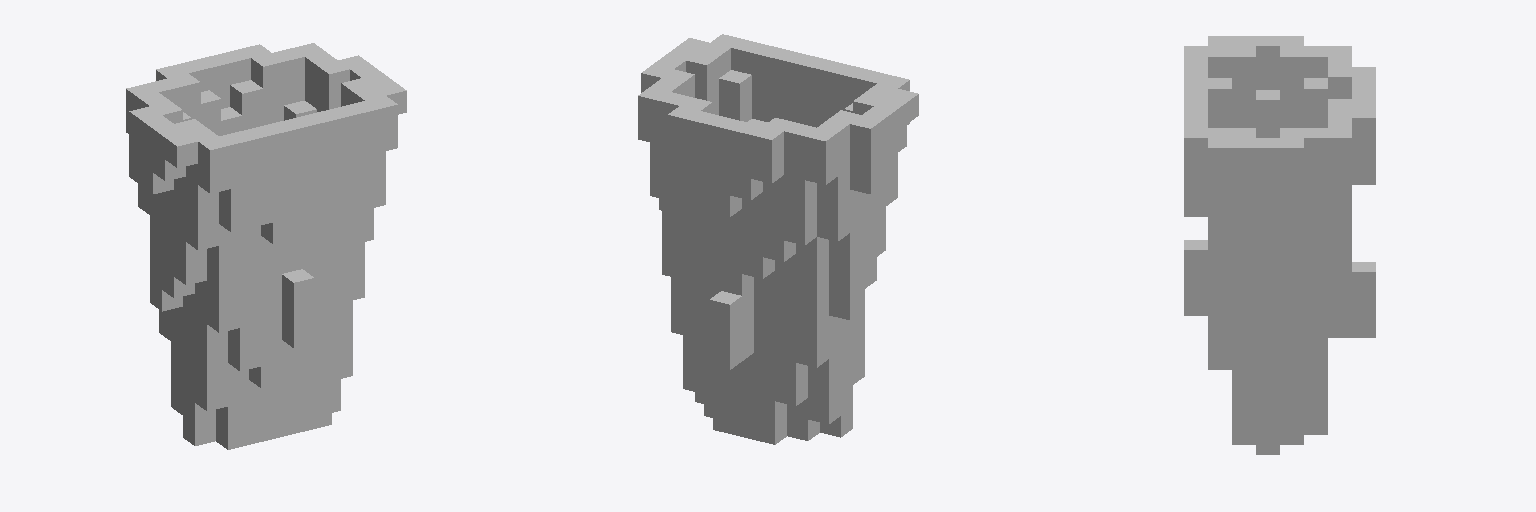
Rendered from kelpietail3.obj.
3 renders of one model, left to right at view 1: azimuth 30°, elevation 25°; view 2: azimuth 150°, elevation 25°; view 3: azimuth 270°, elevation 25°, orthographic.
Parts seen in each view (by area): view 1: kelpietail; view 2: kelpietail; view 3: kelpietail.
Part boxes in pixels (left/top/right/bottom): kelpietail: left=126, top=43, right=406, bottom=449; kelpietail: left=638, top=34, right=918, bottom=444; kelpietail: left=1184, top=36, right=1375, bottom=454.
Size of the model in its own units: 11 by 15 by 8.